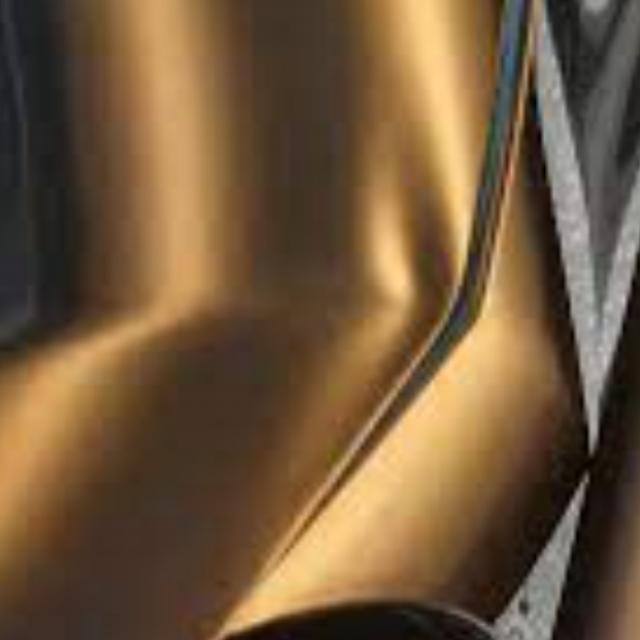dents: (360, 100, 454, 396)
